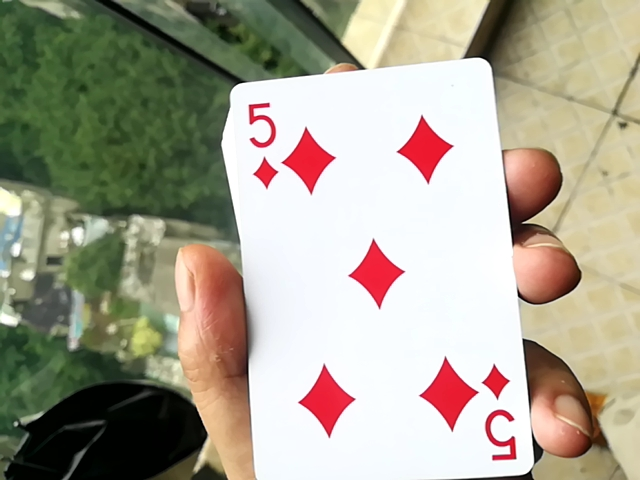fk 5: (207, 56, 544, 480)
